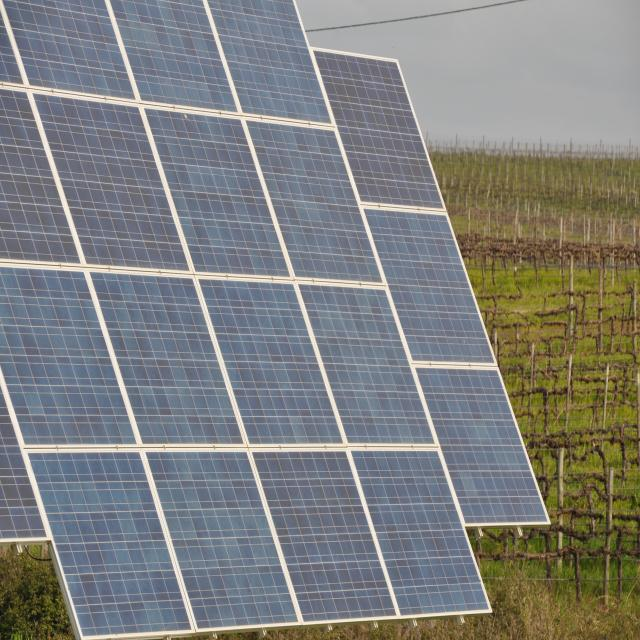dust-solar-panel: (0, 0, 548, 638)
